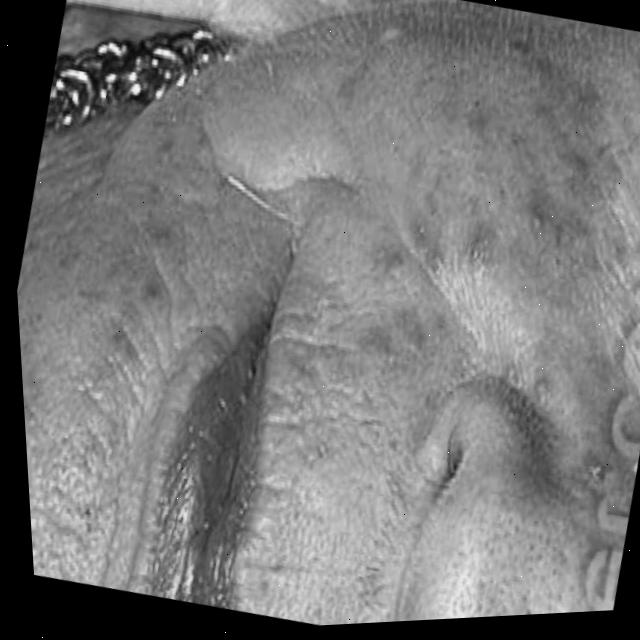Rosacea: (344, 46, 640, 436), (7, 113, 214, 592)
